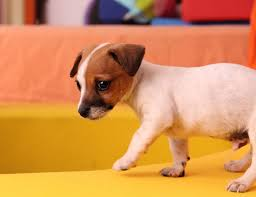chihuahua: (61, 31, 255, 193)
